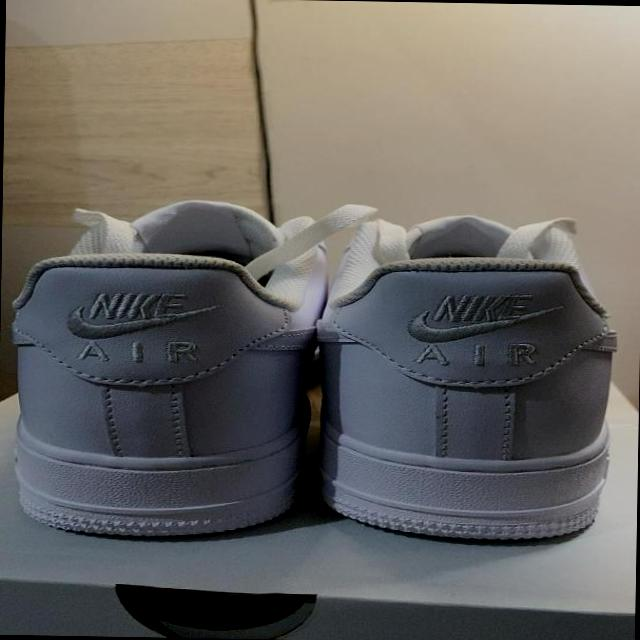nike_original_airforce: (307, 196, 640, 544), (0, 195, 331, 542)
